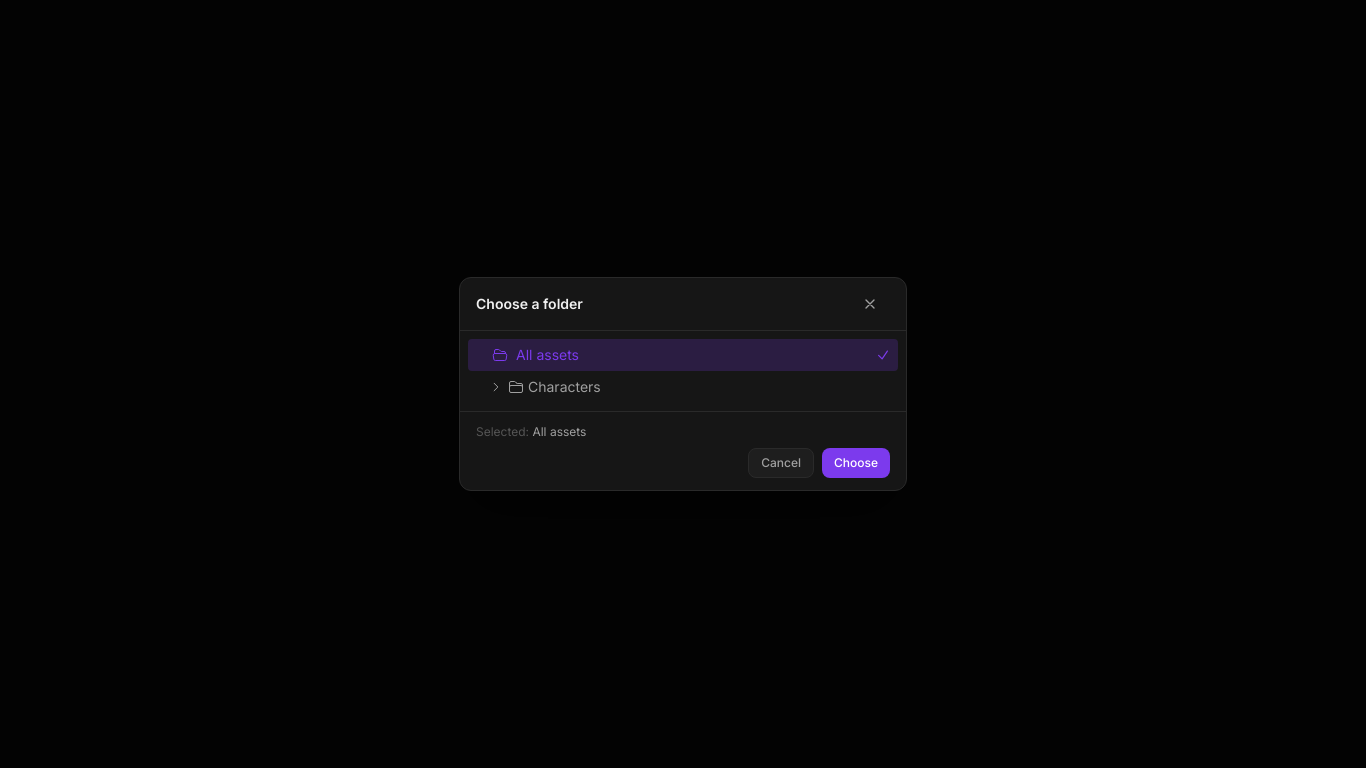
Test: FolderPickerDialog › shows a recoverable error row when a subfolder fetch fails, and Retry refetches
Expected: the text "Characters" is shown, [528,378,601,395]
Click the button named "expand characters" at point(496, 387), box [488,379,504,395]
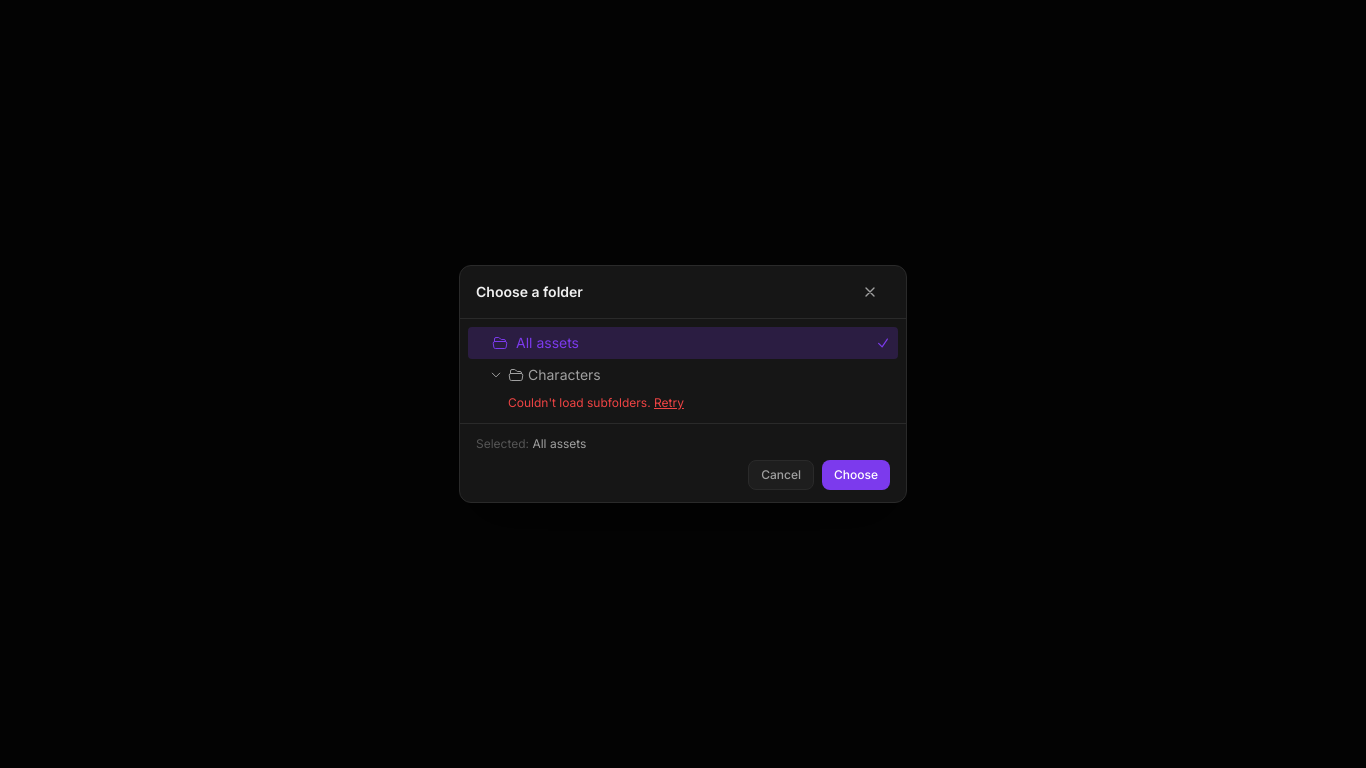
Expected: the text "Couldn't load subfolders. Retry" is shown, [508,395,684,411]
Click the button "Retry" at point(669, 403), box [654,395,684,411]
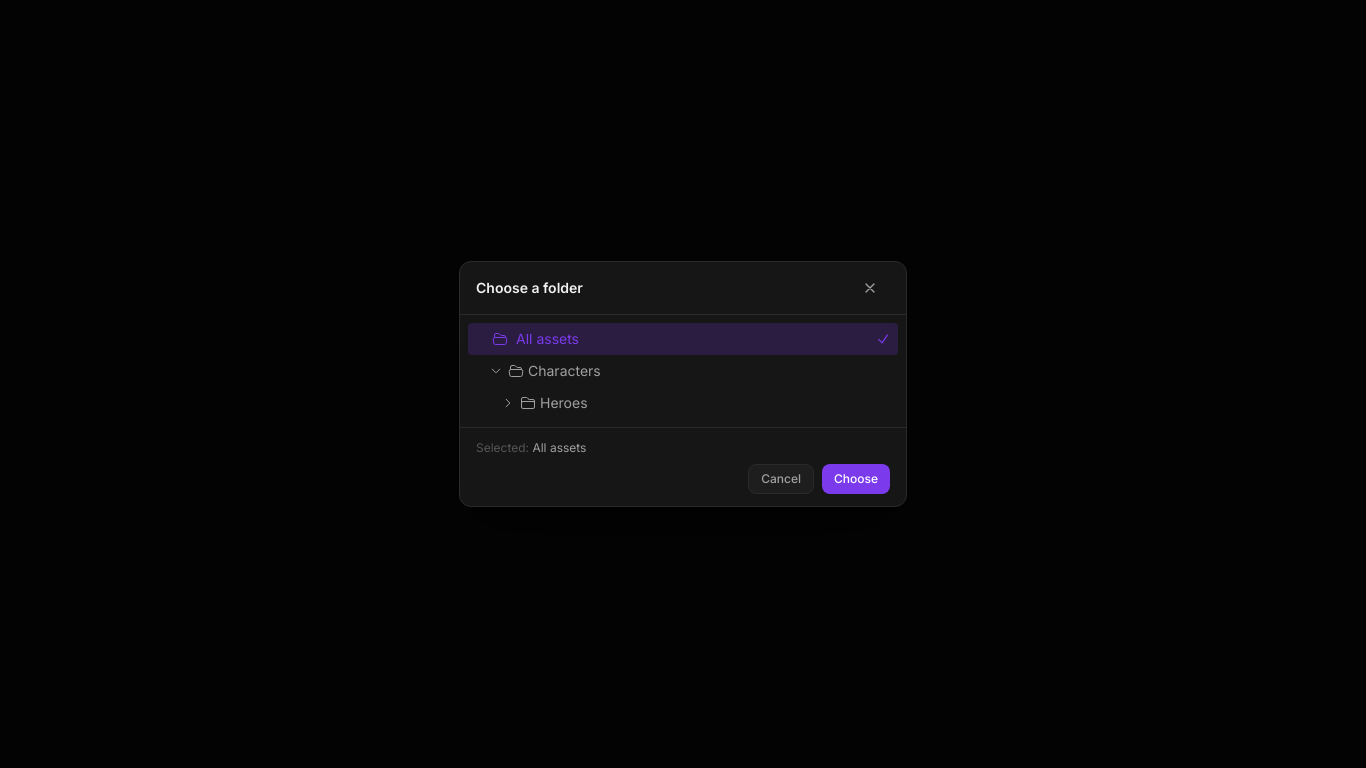
Expected: the text "Heroes" is shown, [540,394,588,411]
Expected: the text "Couldn't load subfolders" is gone
